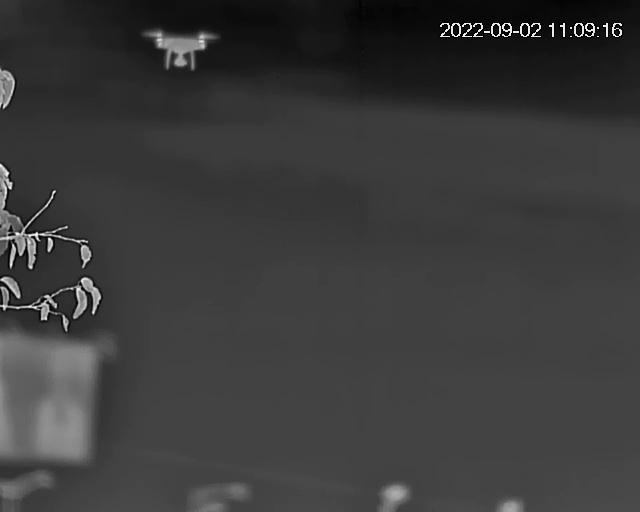DJI-Phantom: (142, 30, 219, 74)
